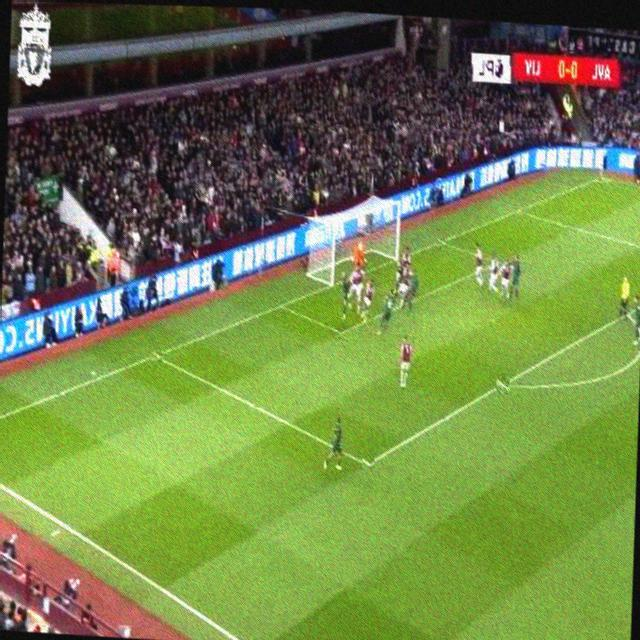bigarea_bottom_inner: (361, 452, 374, 473)
bigarea_bottom_outter: (151, 347, 162, 360)
bigarea_top_outter: (512, 204, 522, 215)
bottom_arc_area_intersection: (495, 375, 509, 394)
corner: (596, 173, 605, 181)
smallarea_bottom_inner: (336, 322, 346, 339)
smallarea_bottom_outter: (275, 297, 287, 312)
smallarea_top_outter: (436, 235, 446, 248)
top_arc_area_intersection: (622, 307, 630, 317)
